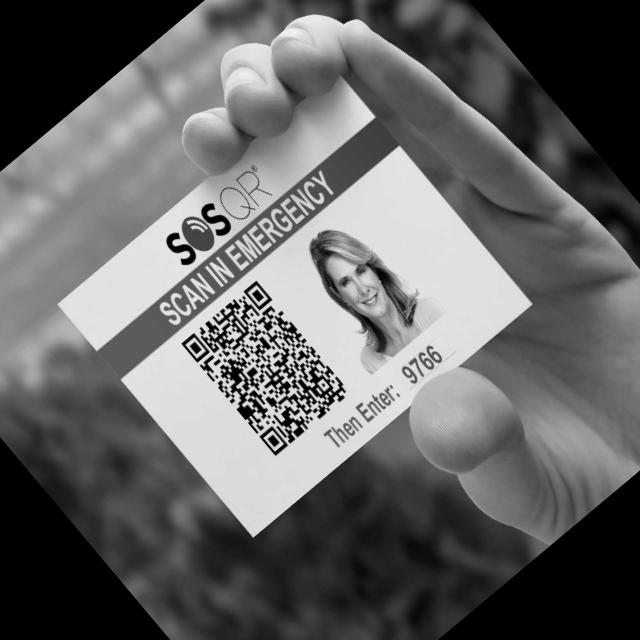QR-codes: (178, 277, 354, 460)
